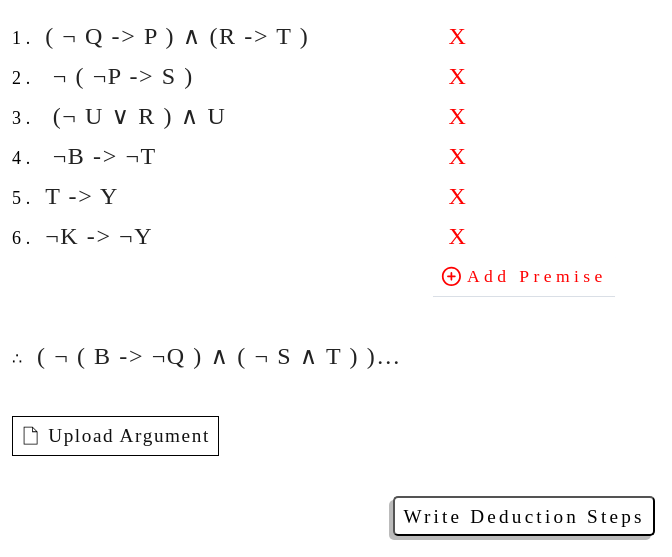
Test: Symbolic Logic Input Form › checks that the delete premise button deletes the respective premise only
The image size is (672, 557).
Click the button named "delete premise" at (457, 36), box [445,20,469,52]
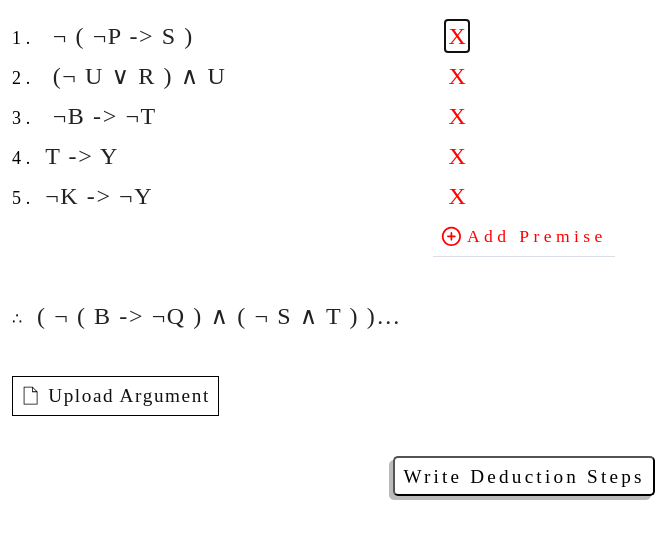
Check: the number of fields is 6, box [35,16,435,56]; [35,56,435,96]; [35,96,435,136]; [35,136,435,176]; [35,176,435,216]; [27,296,427,336]
Check: the field labelled "1." holds " ¬ ( ¬P -> S )", box [35,16,435,56]
Check: the field labelled "2." holds " (¬ U ∨ R ) ∧ U ", box [35,56,435,96]
